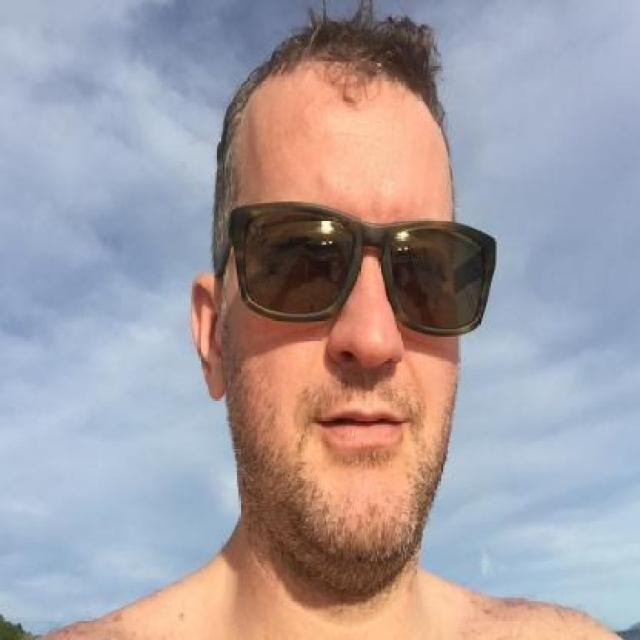face_nomask: (232, 202, 472, 482)
glasses: (208, 200, 500, 346)
head_nohelmet: (213, 34, 461, 158)
